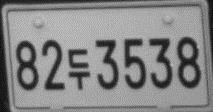2: (41, 38, 65, 90)
3: (94, 39, 119, 90), (148, 37, 173, 88)
5: (123, 37, 146, 89)
8: (175, 36, 201, 88), (15, 39, 39, 90)
두: (67, 48, 91, 90)
